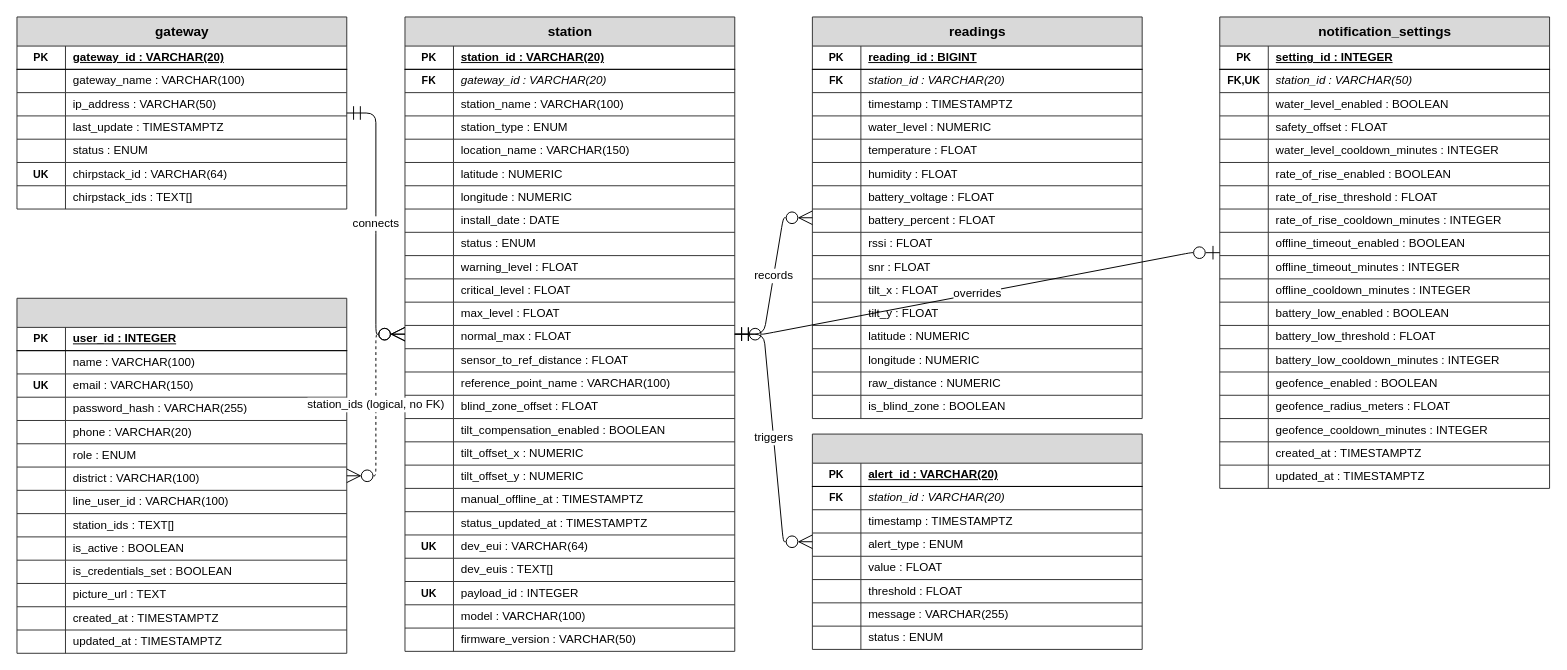
Image size: 1567x670. Some labels were removed from this diagram. The shapes that lost their labels are listed below. From the top down, each one's box as (x1, y1, x2, y2) in pixels, then its label:
(16, 297, 347, 653): users
(811, 433, 1142, 649): alerts
